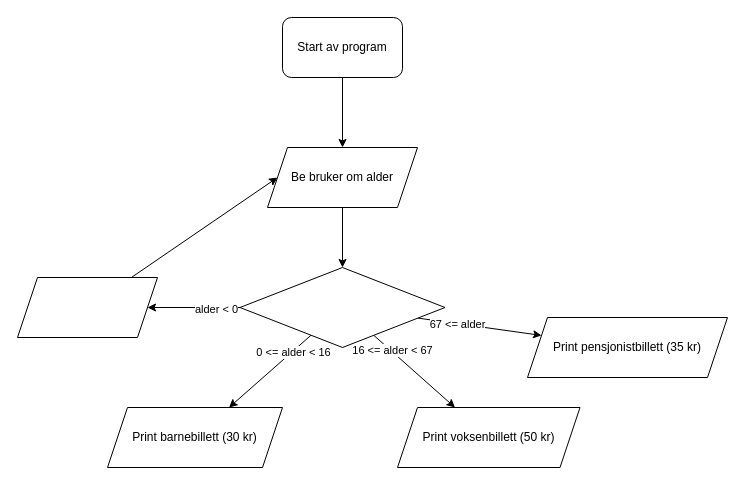
Image size: 745x485. Some labels were removed from this diagram. Here are the shapes that lost their labels. From the top down, the centre of each, then its label:
At (x=87, y=307): "Print ugyldig alder".
At (x=342, y=307): "Sjekk brukerens alder".
